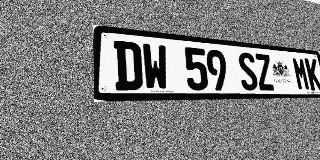5: (184, 47, 209, 90)
9: (205, 49, 229, 90)
D: (114, 40, 143, 90)
K: (304, 58, 320, 91)
M: (291, 57, 311, 90)
S: (237, 52, 259, 90)
W: (141, 43, 169, 90)
Z: (254, 53, 275, 90)
